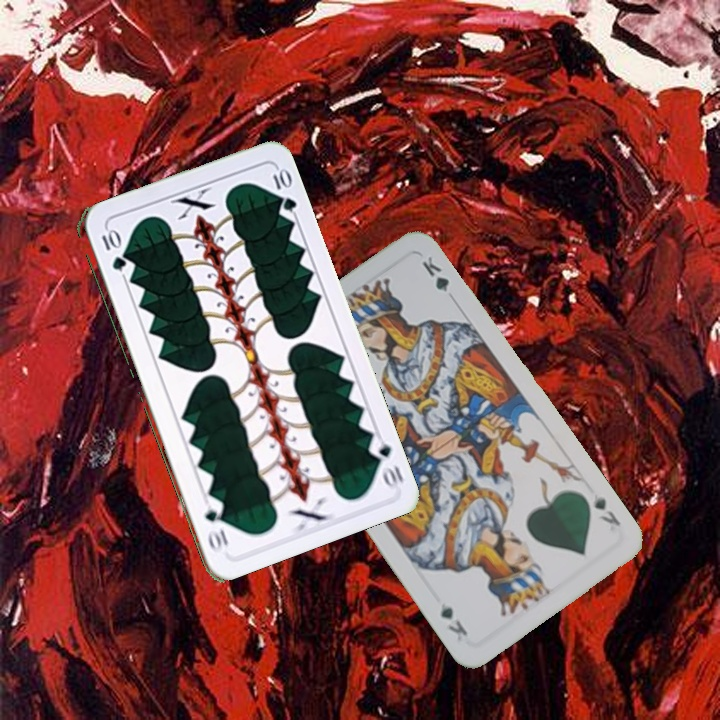G10: (364, 432, 406, 490), (97, 226, 127, 274)
GK: (589, 489, 624, 529)
